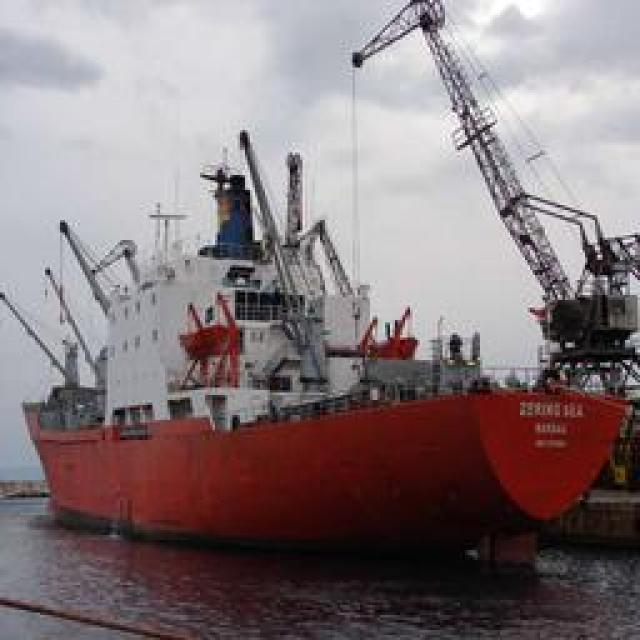ship2: (0, 131, 631, 560)
